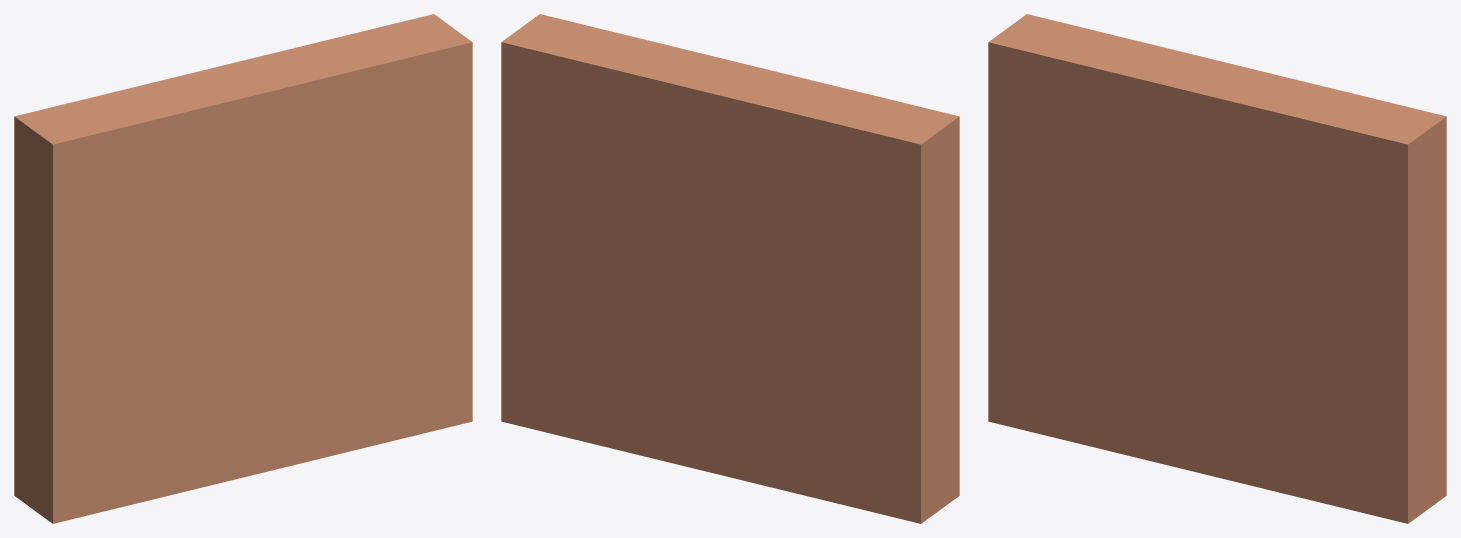
3 views of the same model, side by side, from view 1: azimuth 30°, elevation 25°; view 2: azimuth 150°, elevation 25°; view 3: azimuth 330°, elevation 25° (orthographic).
Parts seen in each view (by area): view 1: GF-L12-BLK-REDLINE-B2-B3-011; view 2: GF-L12-BLK-REDLINE-B2-B3-011; view 3: GF-L12-BLK-REDLINE-B2-B3-011.
Part boxes in pixels (x1,y1,x2,y2): GF-L12-BLK-REDLINE-B2-B3-011: [14, 14, 472, 523]; GF-L12-BLK-REDLINE-B2-B3-011: [501, 14, 959, 523]; GF-L12-BLK-REDLINE-B2-B3-011: [988, 14, 1446, 523].
Size of the model in its own units: 0.22 by 0.19 by 0.035.
